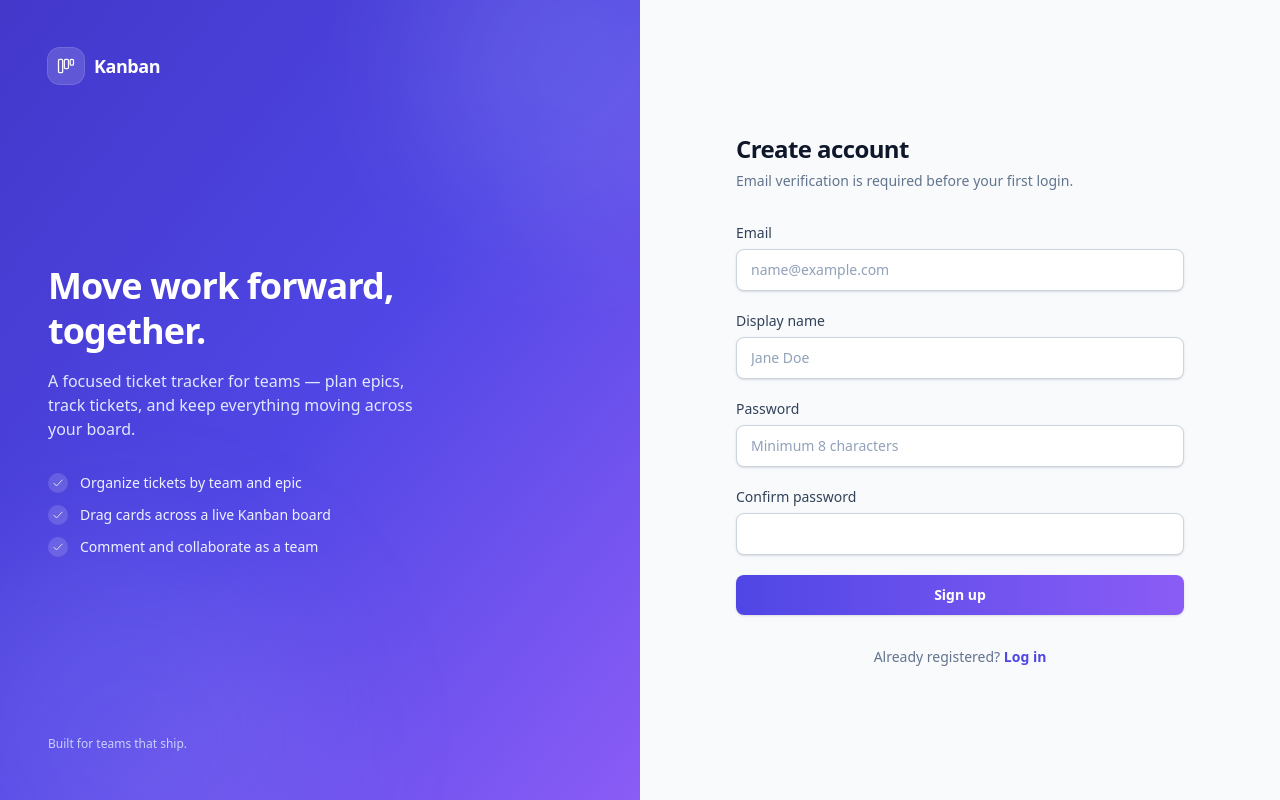
valid signup shows the check-your-email confirmation
This screenshot has width=1280, height=800.
Type "jane@example.com" into the field labelled "Email" at (960, 270), box x1=736 y1=249 x2=1184 y2=291
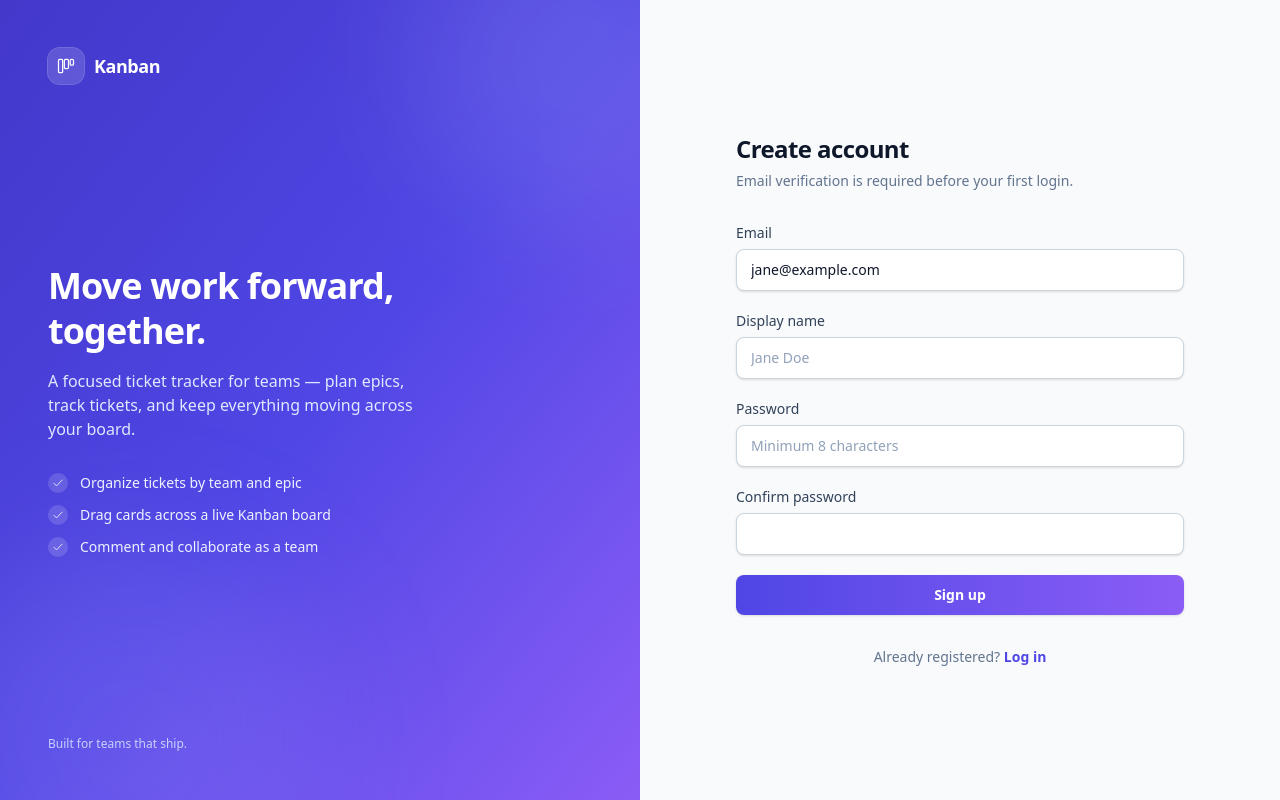
Type "Jane" into the field labelled "Display name" at (960, 358), box x1=736 y1=337 x2=1184 y2=379
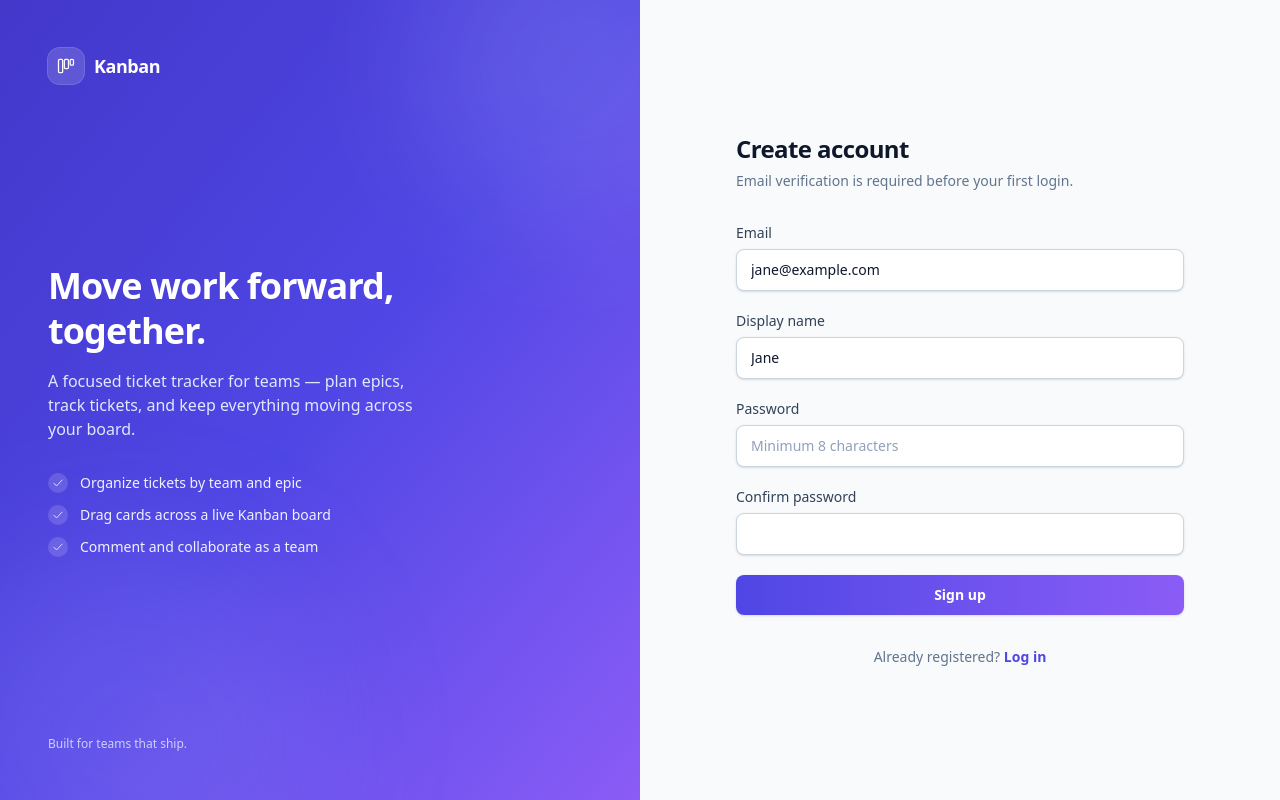
Type "password123" into the password field labelled "Password" at (960, 446), box x1=736 y1=425 x2=1184 y2=467
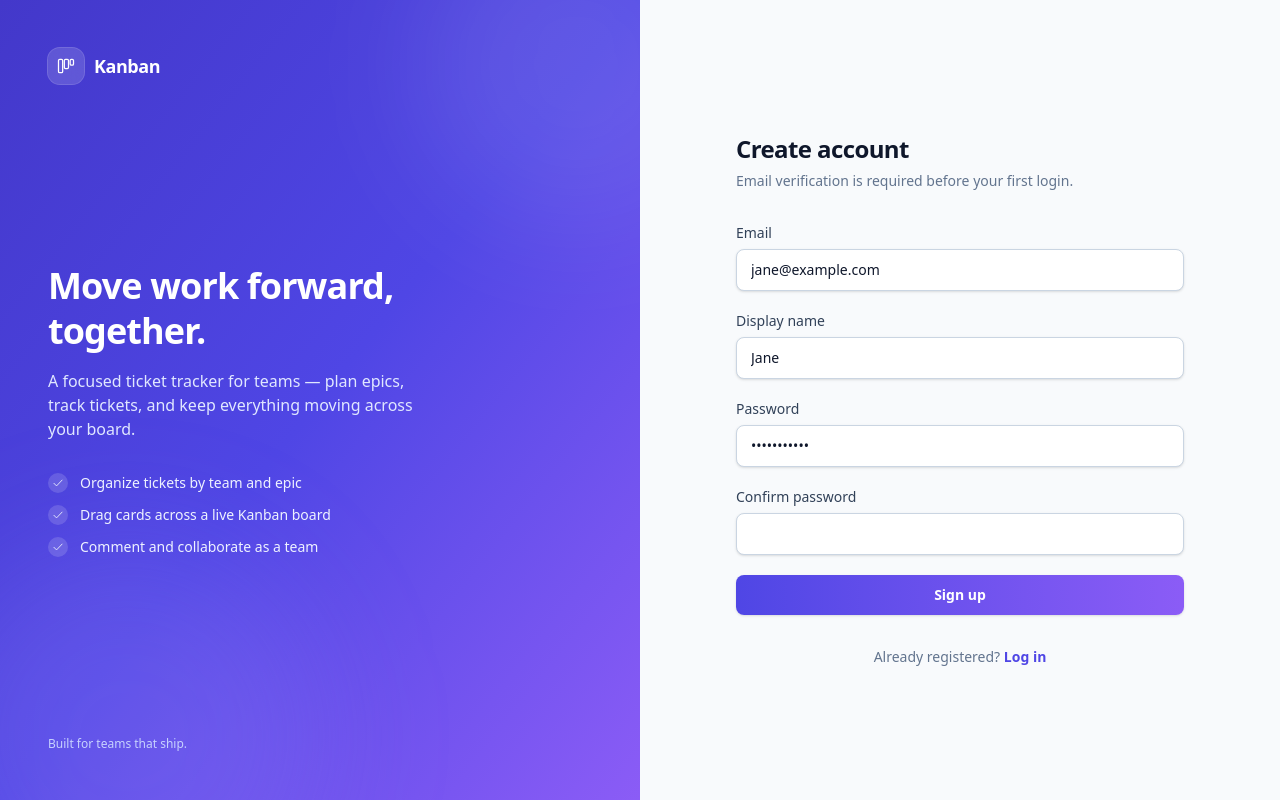
Type "password123" into the password field labelled "Confirm password" at (960, 534), box x1=736 y1=513 x2=1184 y2=555
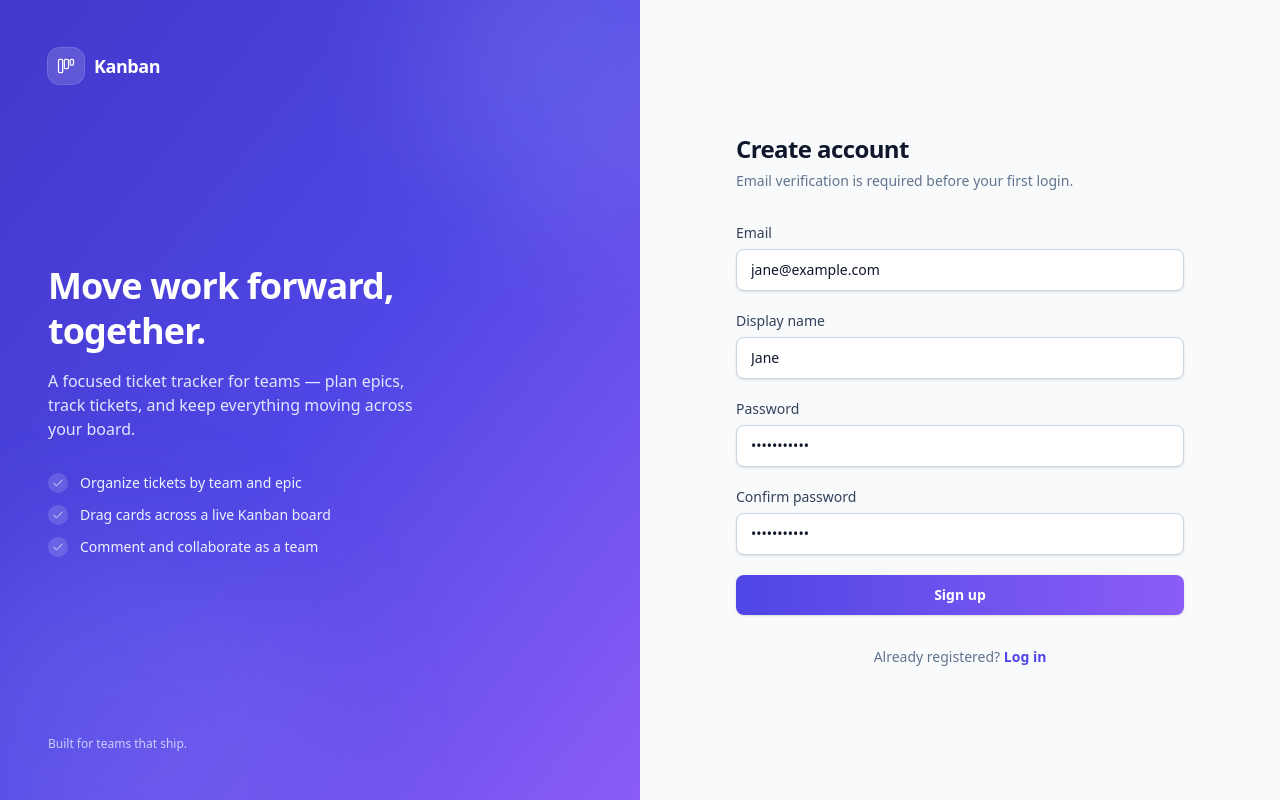
Click the button "Sign up" at (960, 595), box x1=736 y1=575 x2=1184 y2=615
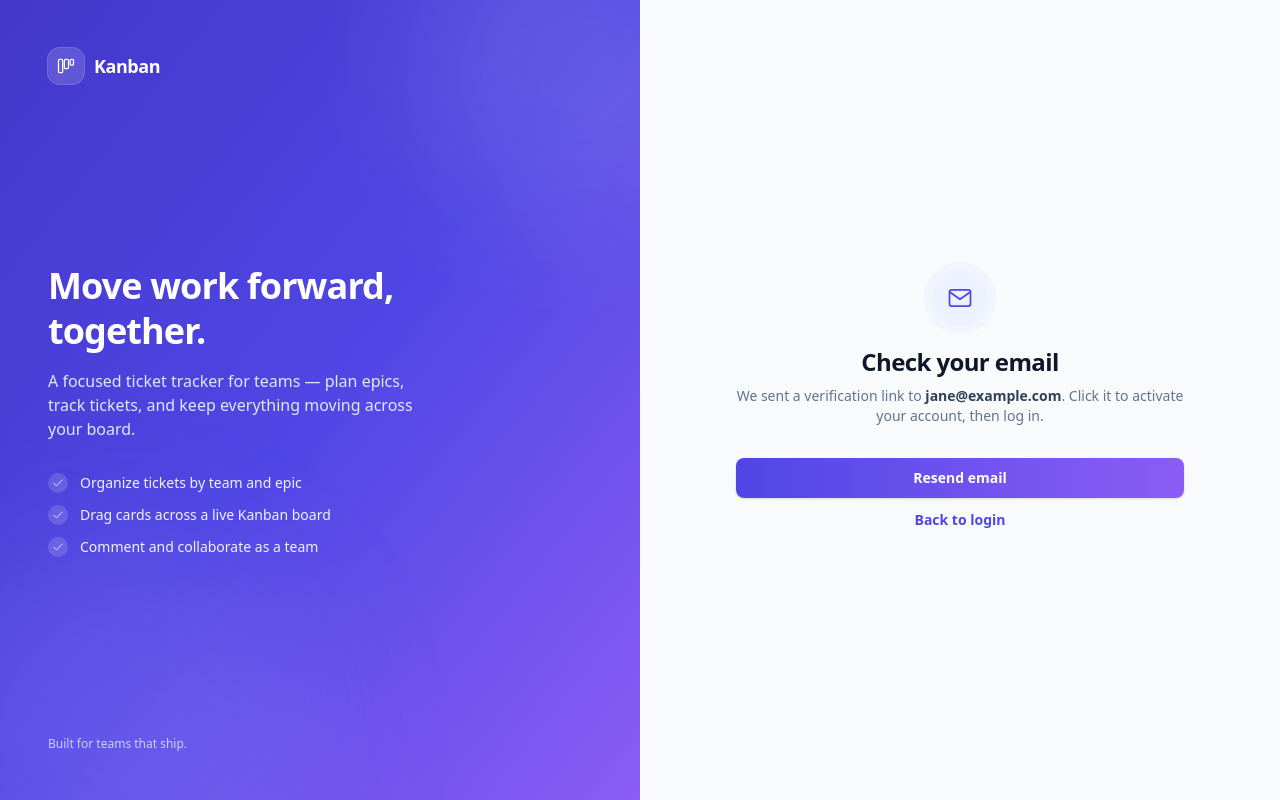
Result: the heading "Check your email" is shown at x1=861 y1=346 x2=1059 y2=378
Result: the text "jane@example.com" is shown at x1=925 y1=386 x2=1062 y2=405
